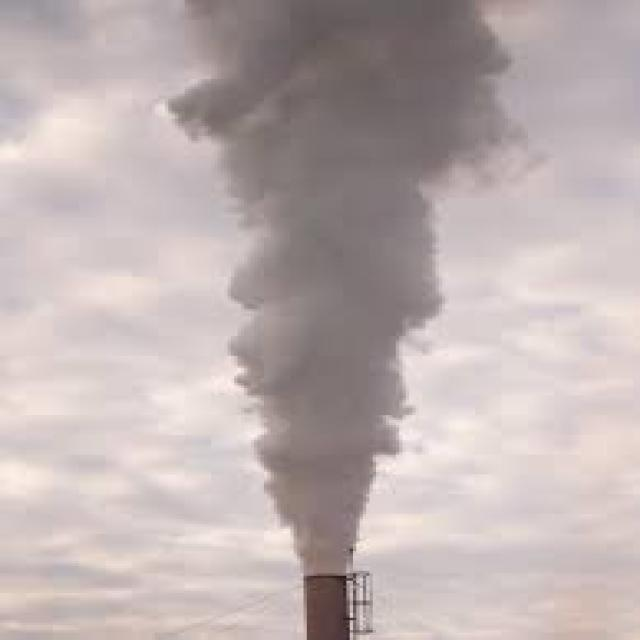Smoke: (165, 0, 551, 576)
